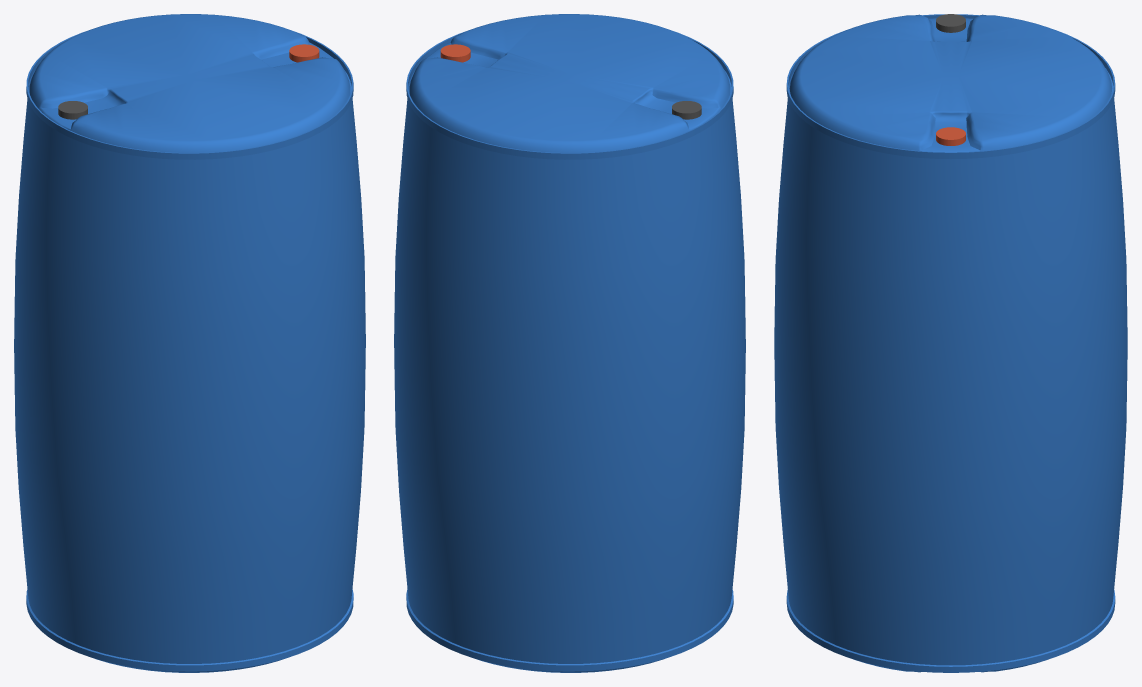
File: barrel100.dae
3 renders of one model, left to right at view 1: azimuth 30°, elevation 25°; view 2: azimuth 150°, elevation 25°; view 3: azimuth 270°, elevation 25°, orthographic.
Visible parts, largest first — view 1: Cylinder; view 2: Cylinder; view 3: Cylinder.
Boxes of the visible parts, box(x1,y1,x2,y2) form: Cylinder: box(14, 14, 365, 672); Cylinder: box(394, 14, 745, 672); Cylinder: box(774, 14, 1127, 672).
Bounding box in the file's own units: 0.6 × 0.6 × 1.
